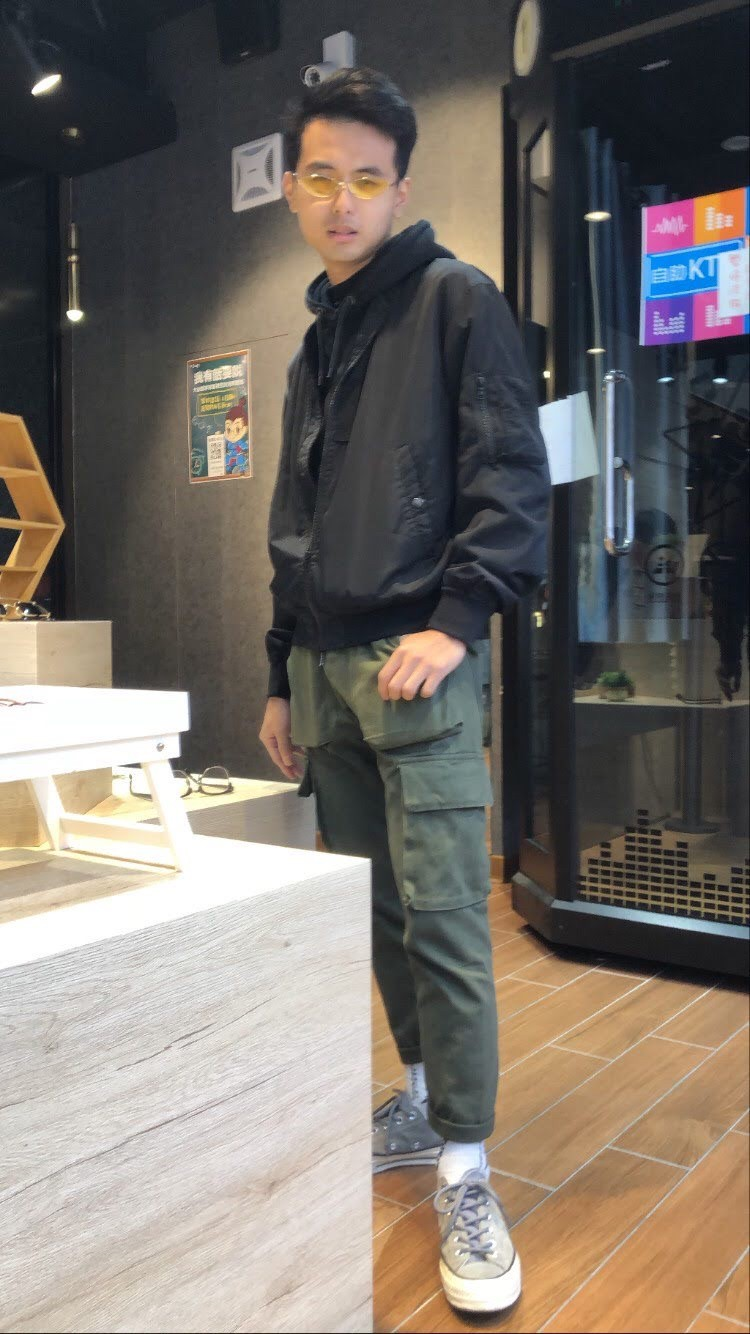people: (254, 74, 546, 1306)
